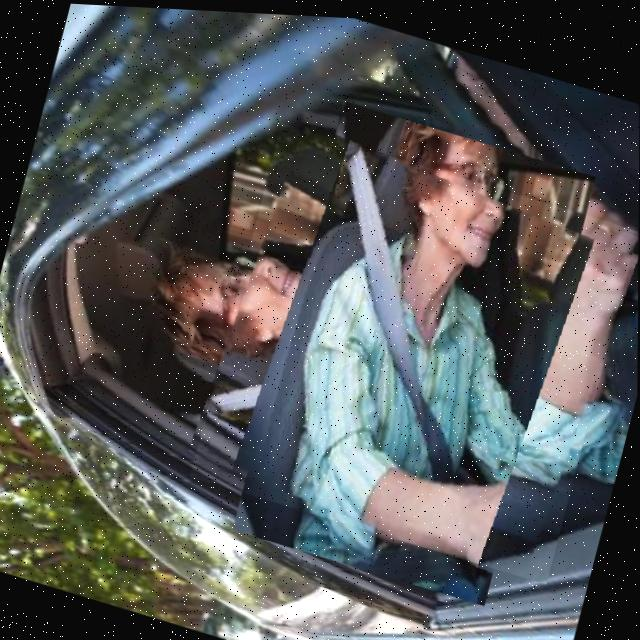seatbelt: (190, 115, 638, 581)
